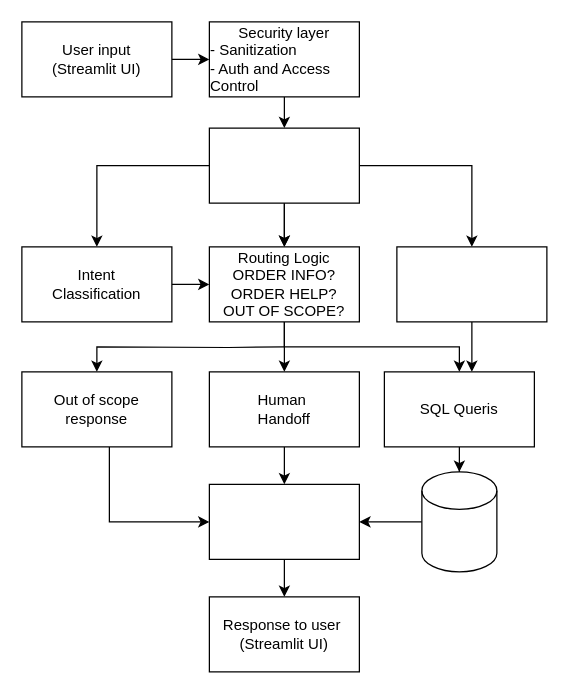
Image size: 569x694. Some labels were removed from this diagram. The shapes that lost their labels are listed below. From the top down, each one's centre as x and y in pixels, then its label:
the point at 283,165: LLM Pipeline
the point at 471,284: Parameters extraction
the point at 283,521: Final answer Generation
the point at 459,521: SQLite Local DB
